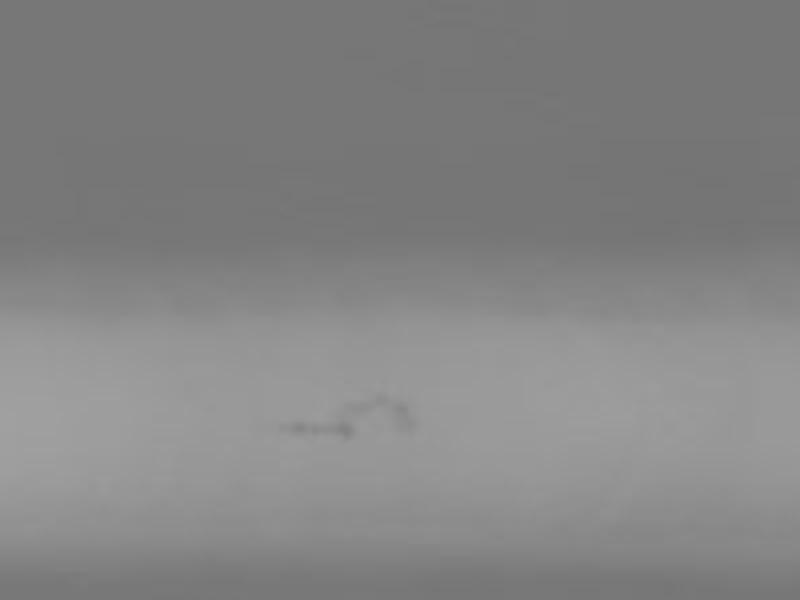defect: (391, 401, 418, 438), (348, 400, 374, 421), (289, 416, 310, 441), (330, 419, 352, 439), (308, 419, 329, 439), (372, 386, 394, 403)
